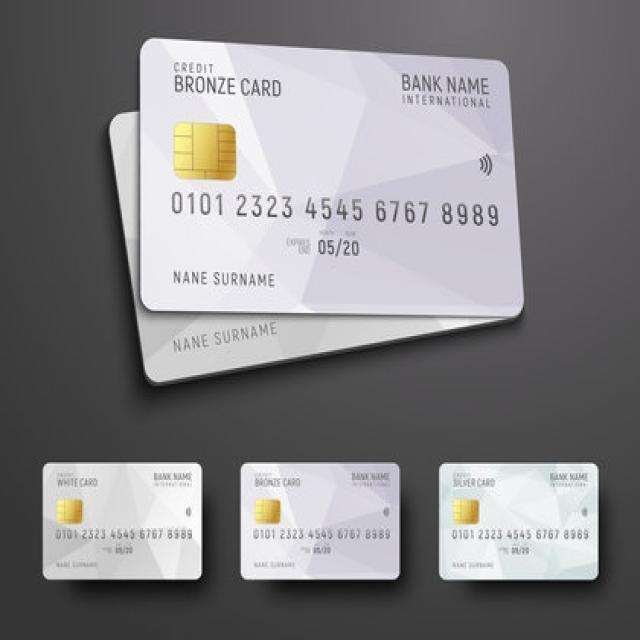payment_card: (141, 36, 524, 319), (437, 460, 599, 582), (240, 463, 403, 582), (41, 462, 203, 581)
